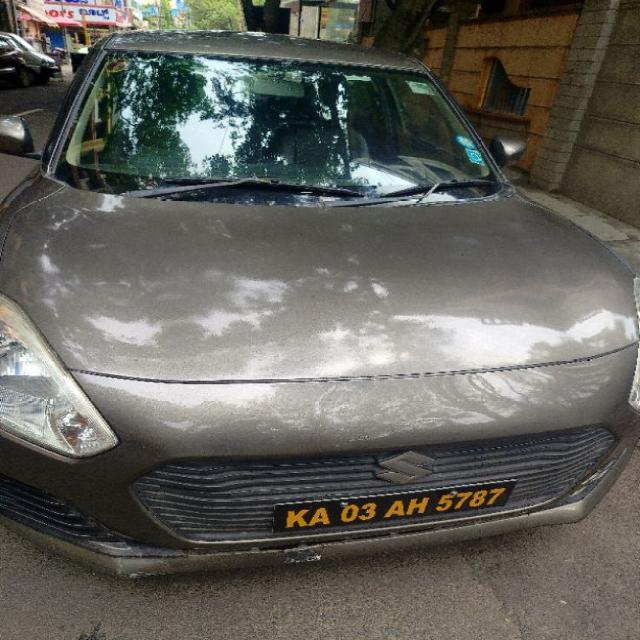license_plate: (1, 28, 638, 580), (127, 424, 618, 549), (270, 477, 518, 533)
